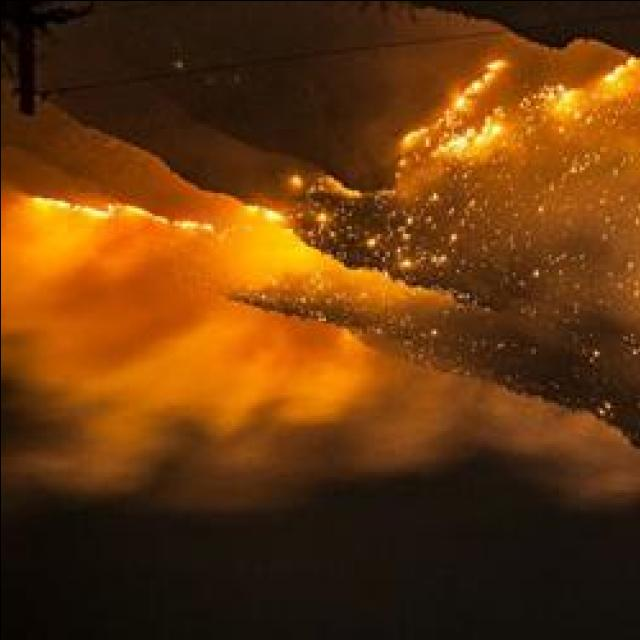fire: (28, 186, 68, 214), (120, 198, 148, 218), (476, 118, 496, 146), (174, 215, 200, 234), (83, 206, 111, 220)
smoke: (137, 354, 274, 513), (0, 228, 90, 436), (36, 270, 198, 380), (0, 402, 154, 509), (312, 388, 438, 474), (229, 342, 363, 420), (538, 434, 632, 511), (444, 398, 534, 460), (183, 244, 260, 284)
